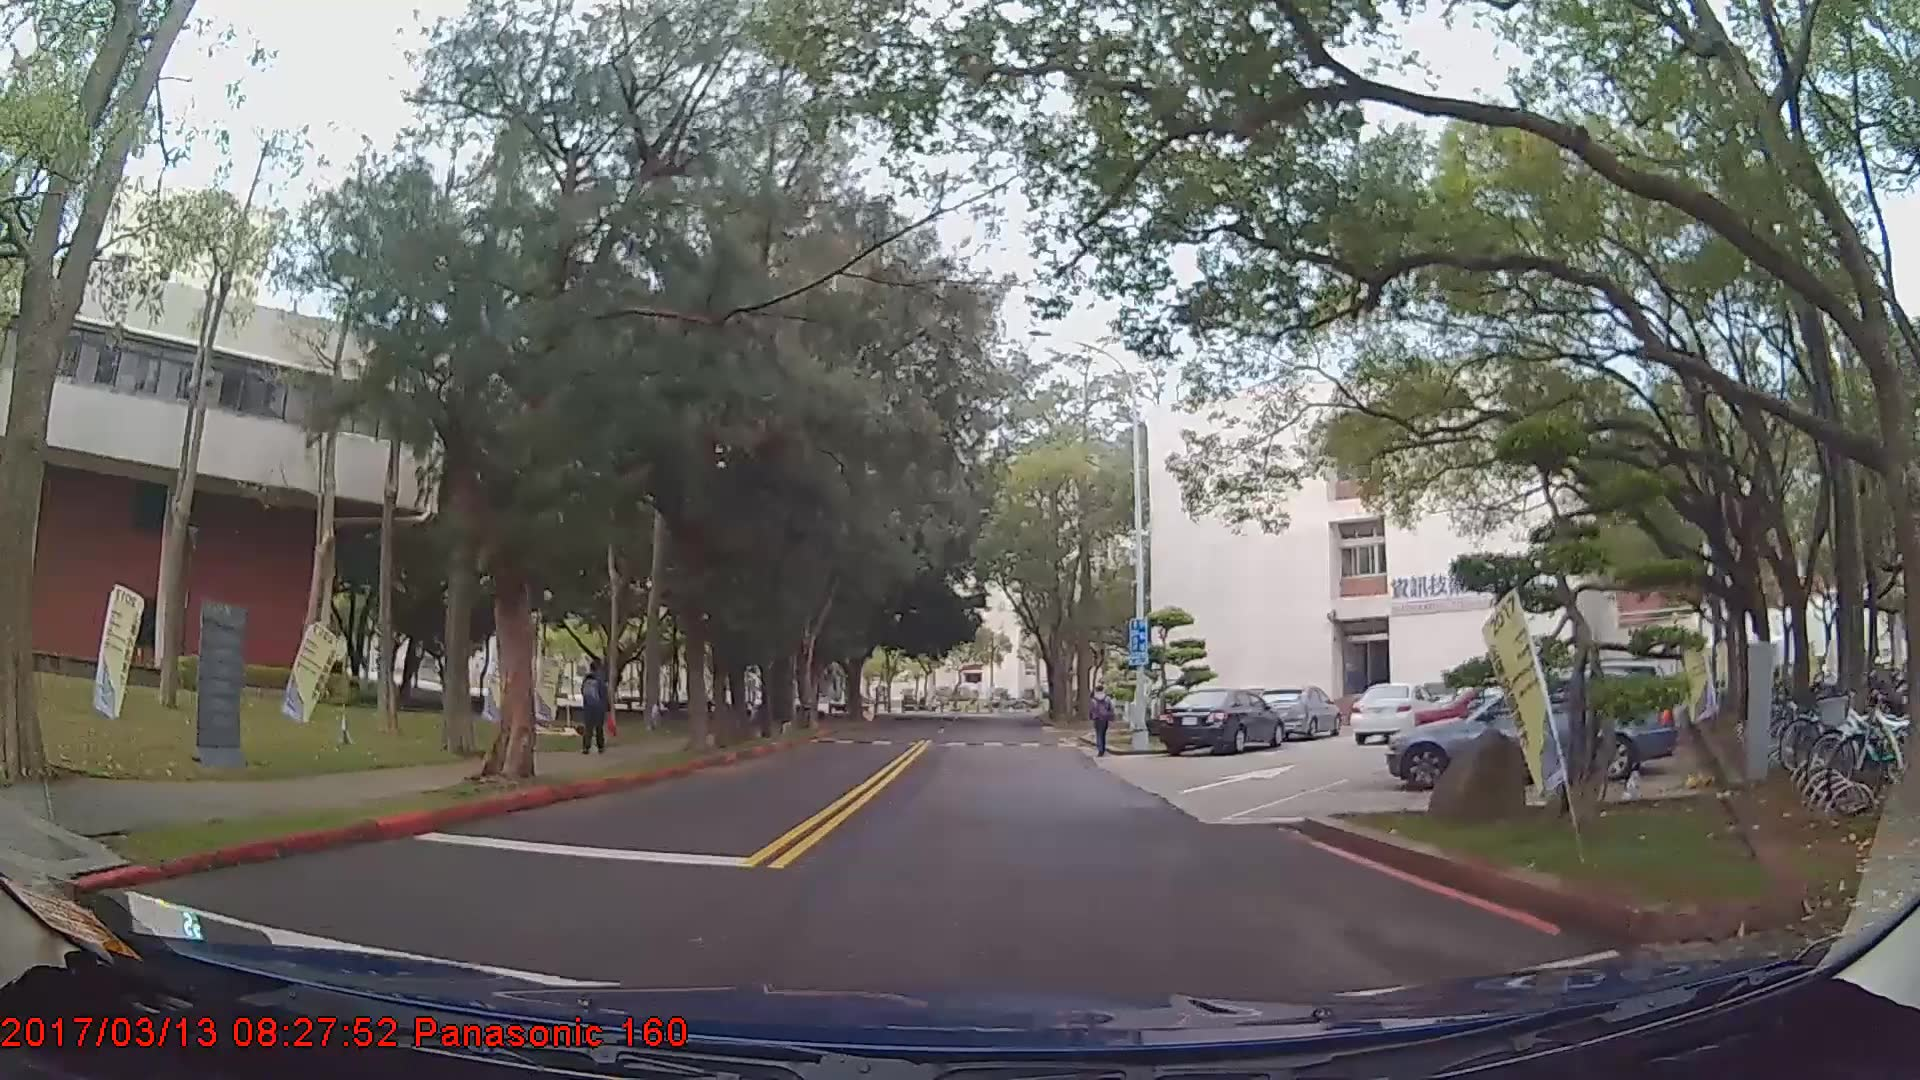pedestrian: (582, 660, 613, 755), (1090, 687, 1118, 761)
vehicle: (1384, 668, 1671, 795), (1155, 687, 1286, 757), (1348, 681, 1437, 746), (1259, 681, 1341, 737)
